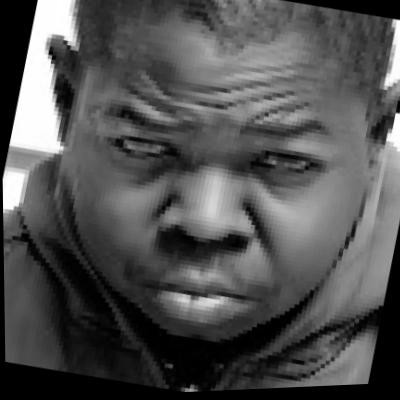sad: (30, 0, 386, 358)
